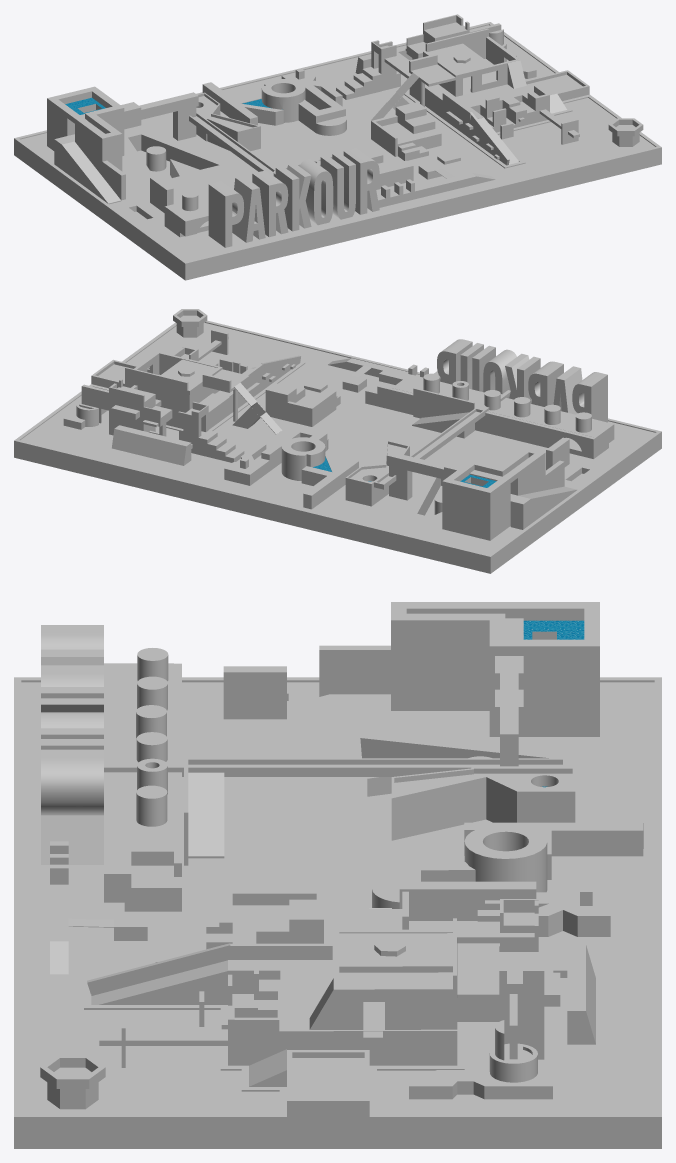
File: 2052edc9-0e4e-45c8-afaf-915e9e412804.fbx
3 views of the same model, one above another, from view 1: azimuth 30°, elevation 25°; view 2: azimuth 150°, elevation 25°; view 3: azimuth 270°, elevation 25° (orthographic). The views are drawn at different scales.
Parts seen in each view (by area): view 1: Model, PARKOUR1; view 2: Model, PARKOUR1; view 3: Model, PARKOUR1.
Boxes of the visible parts, x1,y1,x2,y2 form: Model: [14, 14, 661, 280]; PARKOUR1: [208, 148, 379, 247]; Model: [14, 309, 661, 573]; PARKOUR1: [437, 339, 607, 422]; Model: [14, 602, 661, 1148]; PARKOUR1: [41, 625, 103, 864].
Size of the model in its own units: 66.91 by 9.83 by 41.68.
